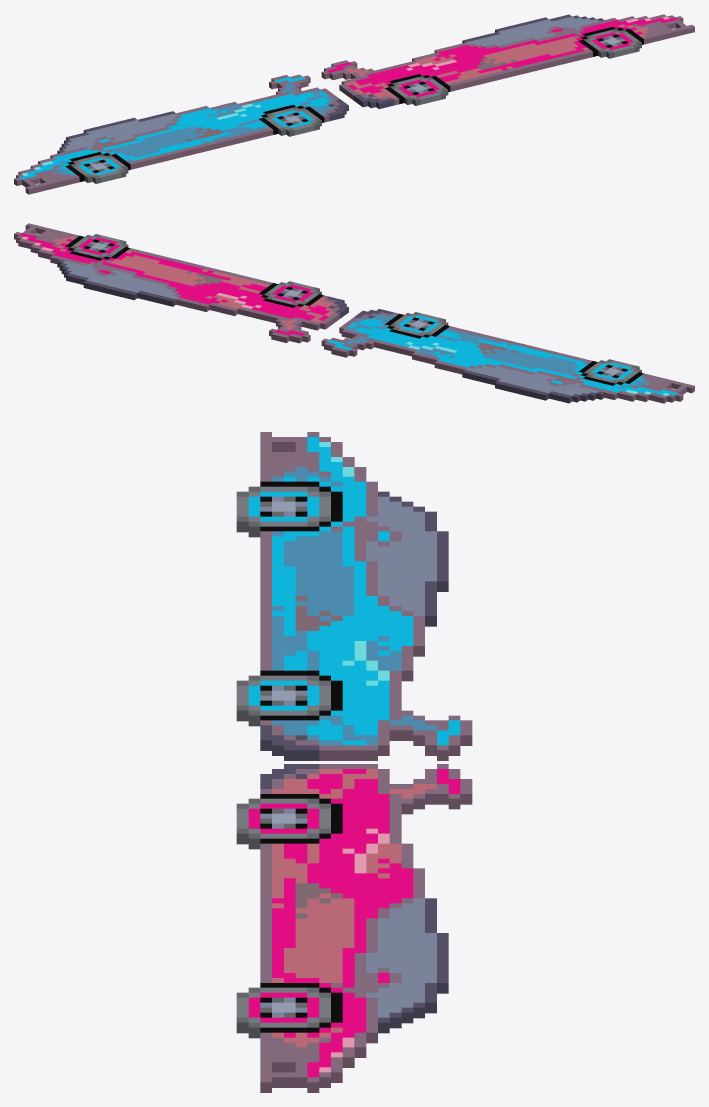
The model's file is Coches.fbx.
3 views of the same model, one above another, from view 1: azimuth 30°, elevation 25°; view 2: azimuth 150°, elevation 25°; view 3: azimuth 270°, elevation 25° (orthographic). The views are drawn at different scales.
Visible parts, largest first — view 1: Coche2Lateral.png, Coche2_blue.png; view 2: Coche2_blue.png, Coche2Lateral.png; view 3: Coche2Lateral.png, Coche2_blue.png.
Part boxes in pixels (left/top/right/bottom): Coche2Lateral.png: left=321, top=14, right=694, bottom=108; Coche2_blue.png: left=14, top=74, right=348, bottom=194; Coche2_blue.png: left=321, top=309, right=694, bottom=403; Coche2Lateral.png: left=14, top=223, right=348, bottom=343; Coche2Lateral.png: left=236, top=764, right=472, bottom=1092; Coche2_blue.png: left=236, top=432, right=472, bottom=760.
Bounding box in the file's own units: 13075 × 100 × 2000.
